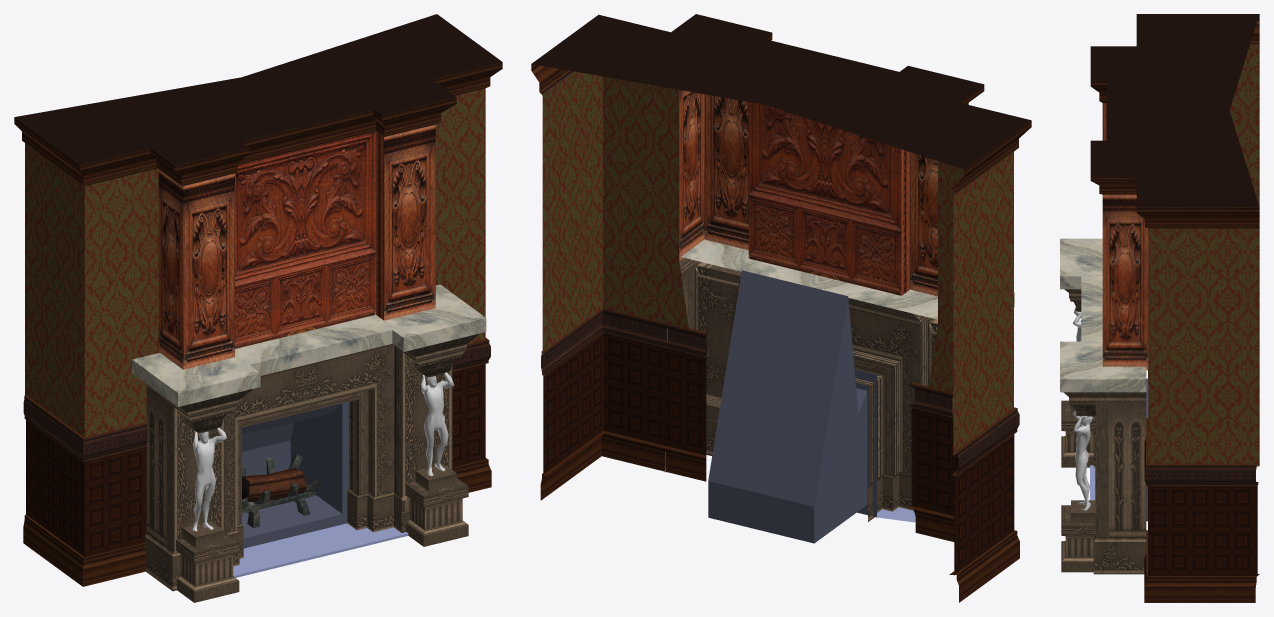
Rendered from Grand_Fireplace.fbx.
The picture shows the model from 3 angles, left to right: view 1: azimuth 30°, elevation 25°; view 2: azimuth 150°, elevation 25°; view 3: azimuth 270°, elevation 25°; orthographic projection. The views are drawn at different scales.
Parts seen in each view (by area): view 1: FireplaceGrand_LOD0; view 2: FireplaceGrand_LOD0; view 3: FireplaceGrand_LOD0.
Part boxes in pixels (box(x1,y1,x2,y2)): FireplaceGrand_LOD0: box(14, 14, 502, 602); FireplaceGrand_LOD0: box(531, 14, 1031, 602); FireplaceGrand_LOD0: box(1060, 14, 1259, 602).
Size of what is drawn, in the model's own units: 385 by 371 by 169.
